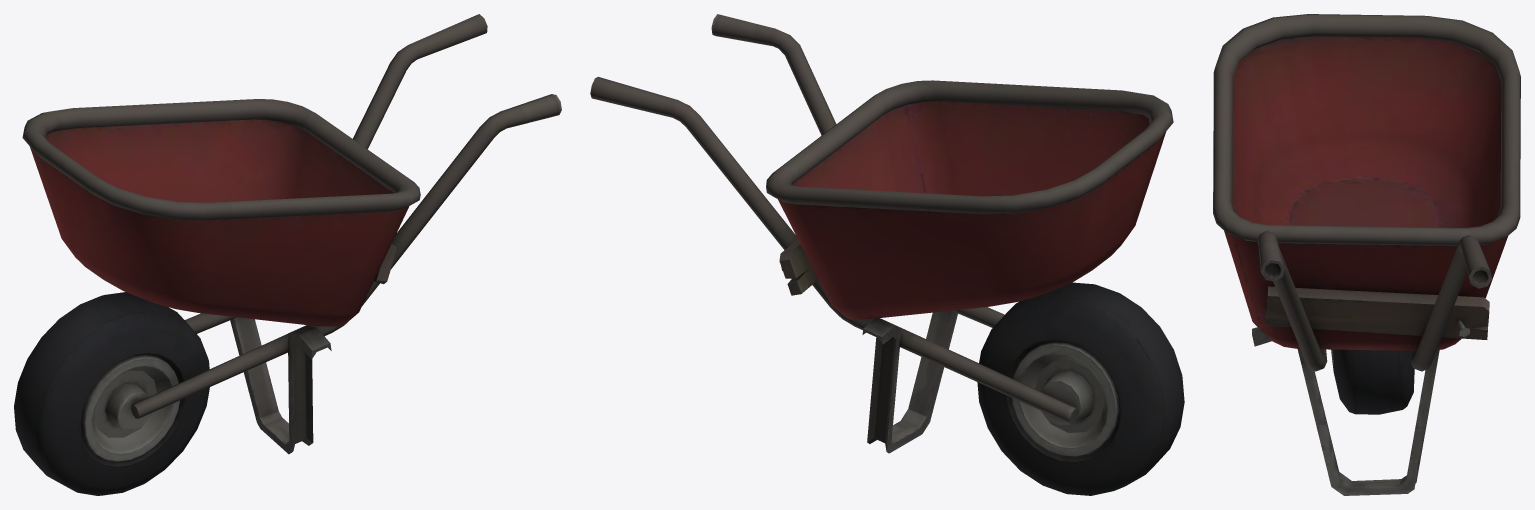
The picture shows the model from 3 angles, left to right: view 1: azimuth 30°, elevation 25°; view 2: azimuth 150°, elevation 25°; view 3: azimuth 270°, elevation 25°; orthographic projection. The views are drawn at different scales.
Parts seen in each view (by area): view 1: body0_model0_lod0_mesh0; view 2: body0_model0_lod0_mesh0; view 3: body0_model0_lod0_mesh0.
Boxes of the visible parts, x1=… form: body0_model0_lod0_mesh0: x1=14, y1=14, x2=561, y2=495; body0_model0_lod0_mesh0: x1=590, y1=14, x2=1184, y2=495; body0_model0_lod0_mesh0: x1=1213, y1=14, x2=1520, y2=495.
Bounding box in the file's own units: 70.42 × 44.72 × 33.98.
1 material, 1 textured.
